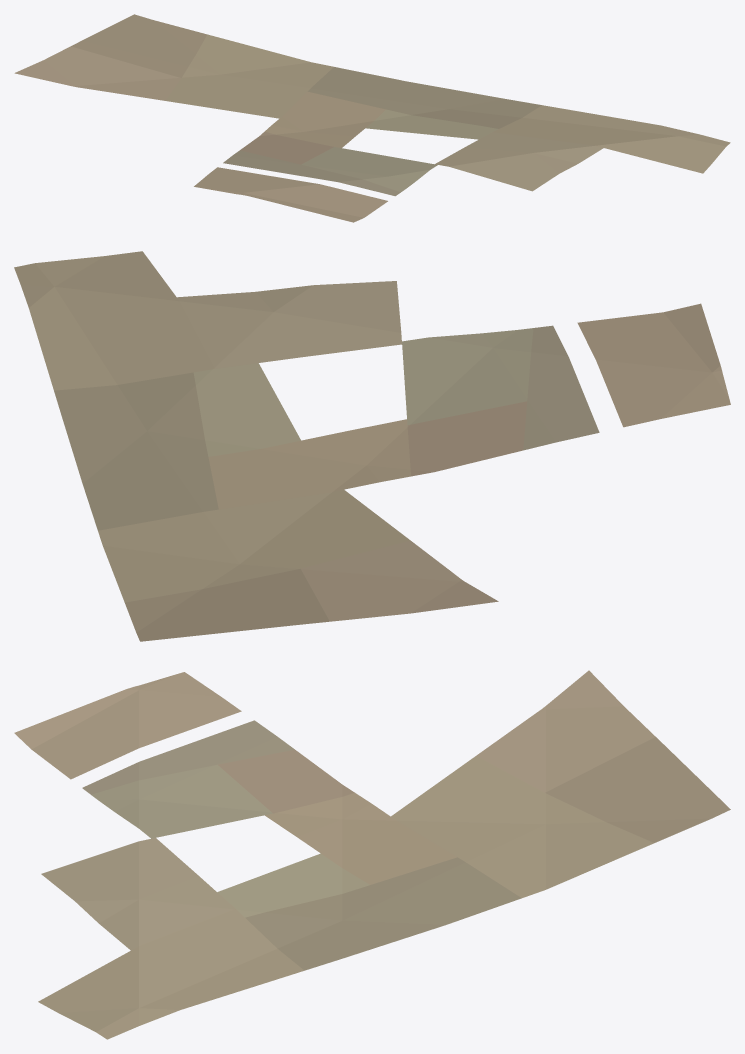
The model's file is farm_0_4_soil.glb.
The picture shows the model from 3 angles, top to bottom: view 1: azimuth 30°, elevation 25°; view 2: azimuth 150°, elevation 25°; view 3: azimuth 270°, elevation 25°; orthographic projection. The views are drawn at different scales.
Visible parts, largest first — view 1: geometry_0; view 2: geometry_0; view 3: geometry_0.
Boxes of the visible parts, x1=… form: geometry_0: x1=14, y1=14, x2=730, y2=222; geometry_0: x1=14, y1=251, x2=730, y2=641; geometry_0: x1=14, y1=670, x2=730, y2=1039.
Bounding box in the file's own units: 286 × 29.91 × 282.
